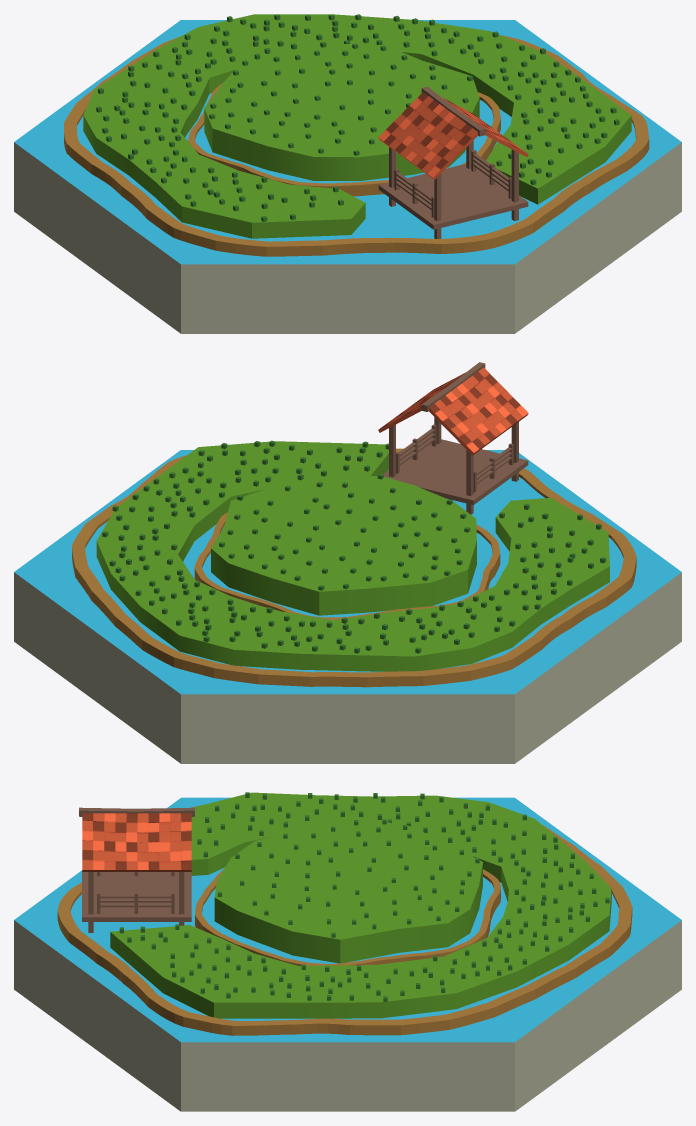
File: Tuile_Eau_Champs_Niv4.fbx
3 views of the same model, one above another, from view 1: azimuth 30°, elevation 25°; view 2: azimuth 150°, elevation 25°; view 3: azimuth 270°, elevation 25° (orthographic).
Visible parts, largest first — view 1: Level 4, Tuile, Bord, Eau, Level 4.001, Level 4.002; view 2: Level 4, Tuile, Bord, Level 4.001, Eau, Level 4.002; view 3: Level 4, Tuile, Bord, Level 4.001, Level 4.002, Eau.
Part boxes in pixels (x1,y1,x2,y2): Level 4: (83,14,631,238); Tuile: (14,20,681,333); Bord: (64,35,649,256); Eau: (77,93,635,241); Level 4.001: (378,92,528,179); Level 4.002: (378,164,528,229); Level 4: (96,362,609,671); Tuile: (14,450,681,763); Bord: (72,448,636,687); Level 4.001: (378,367,528,455); Eau: (85,469,623,672); Level 4.002: (383,439,528,504); Level 4: (79,792,611,1018); Tuile: (14,797,681,1111); Bord: (57,805,632,1035); Level 4.001: (82,813,191,871); Level 4.002: (82,871,191,921); Eau: (70,867,618,1020).
Bounding box in the file's own units: 107 × 36.86 × 124.
